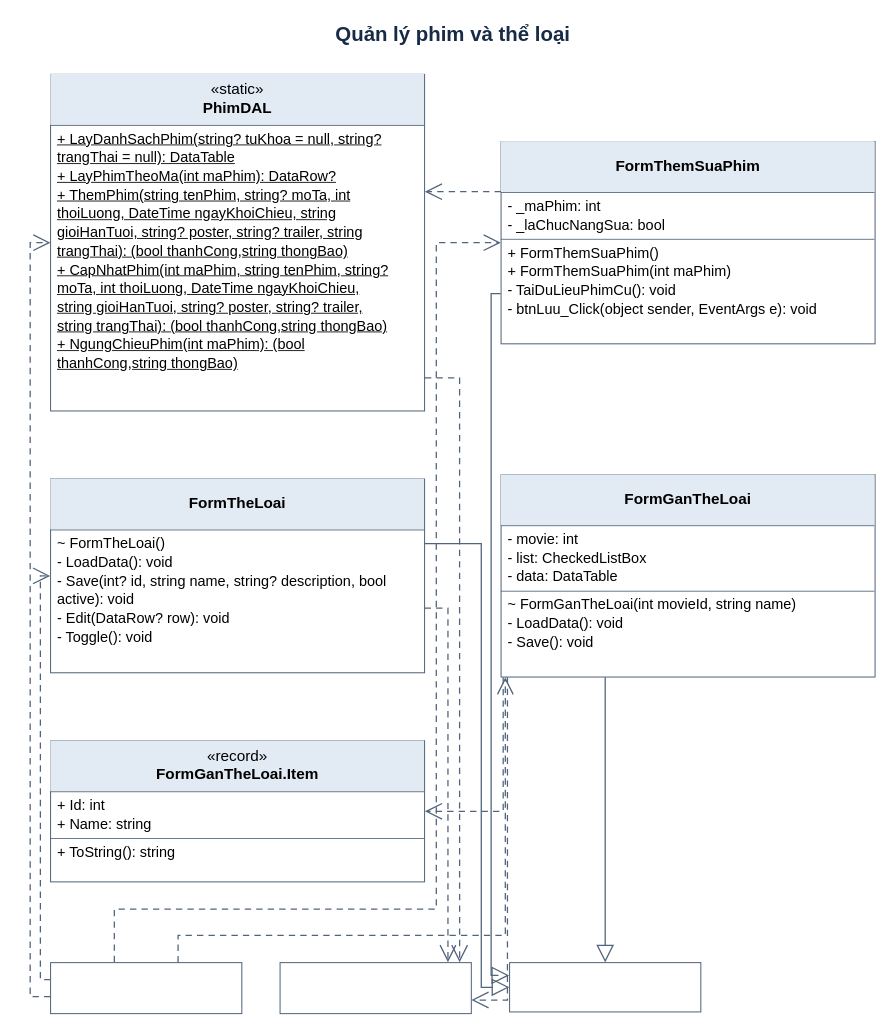
Image size: 894x1031. Some labels were removed from this diagram. The centre of each missing label's shape, as x and y in pixels:
Db: [375,988]
Form1: [146,988]
«framework» Form: [605,987]
